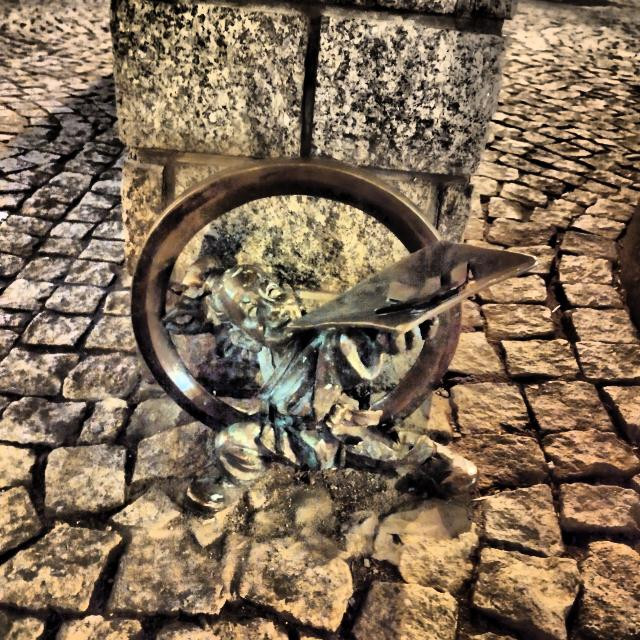TianTian: (131, 159, 535, 511)
